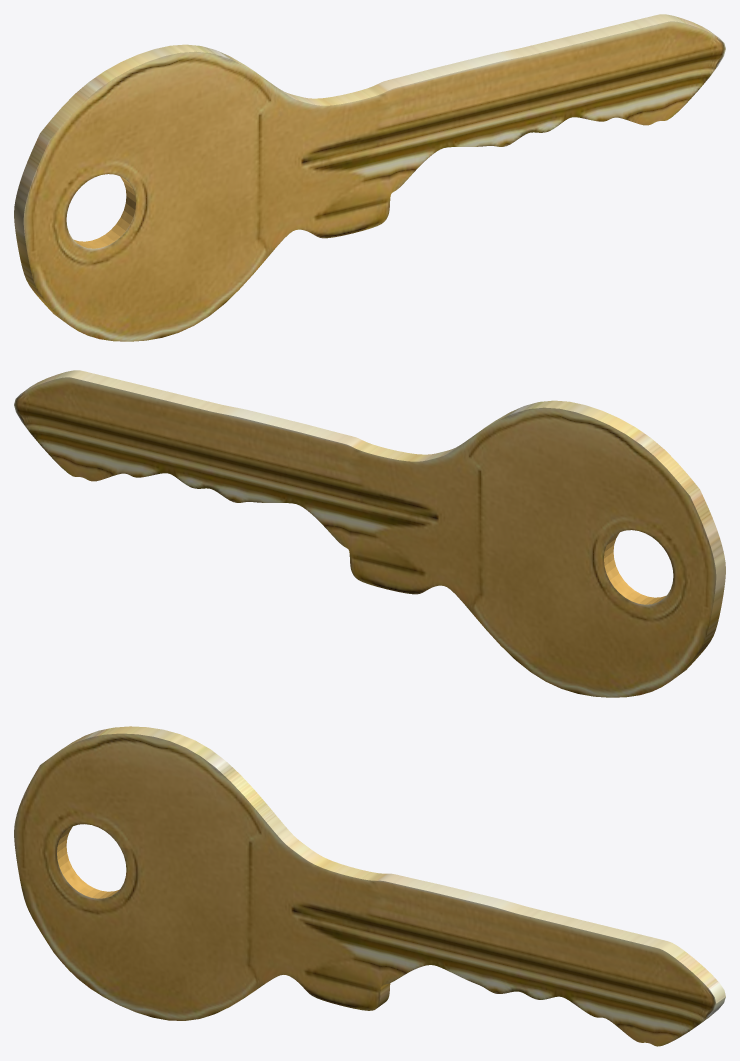
The model's file is key.glb.
3 renders of one model, top to bottom at view 1: azimuth 30°, elevation 25°; view 2: azimuth 150°, elevation 25°; view 3: azimuth 330°, elevation 25°, orthographic.
Visible parts, largest first — view 1: Plane; view 2: Plane; view 3: Plane.
Boxes of the visible parts, box(x1,y1,x2,y2) form: Plane: box(14, 14, 725, 341); Plane: box(14, 370, 725, 697); Plane: box(14, 726, 725, 1046).
Size of the model in its own units: 4.18 by 1.6 by 0.1001.
Materials: 1 (1 with a texture image).
